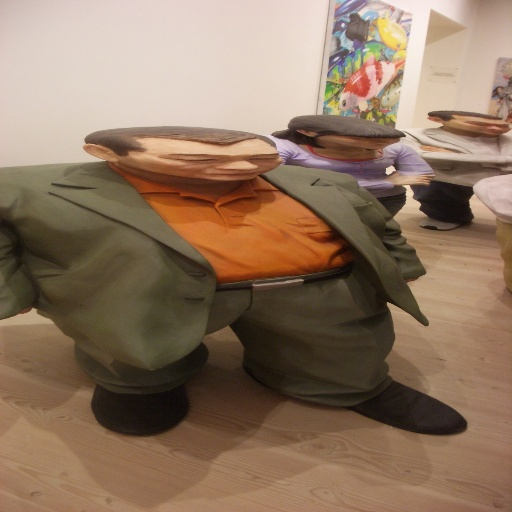hand: (386, 169, 436, 184), (416, 144, 455, 152)
